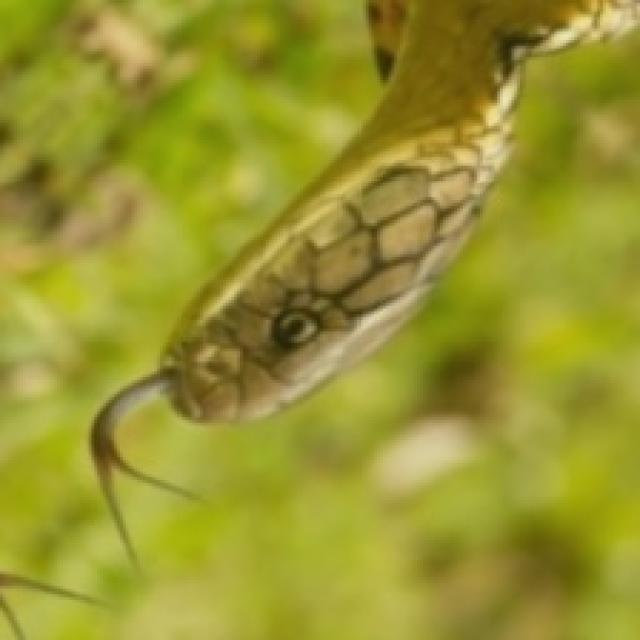king cobra: (91, 0, 637, 554)
